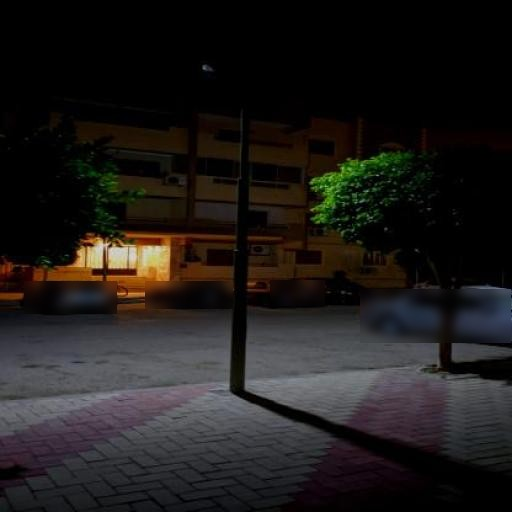apagada: (197, 63, 218, 76)
